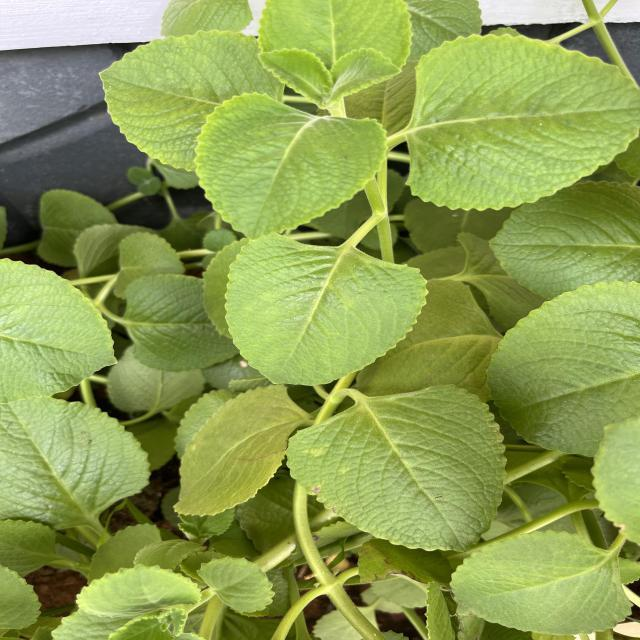Plectranthus barbatus: (402, 32, 640, 214), (284, 382, 508, 554), (224, 230, 431, 387), (198, 92, 388, 242), (485, 277, 640, 458), (97, 28, 270, 172), (2, 394, 156, 527), (449, 528, 633, 636), (171, 382, 293, 518)
